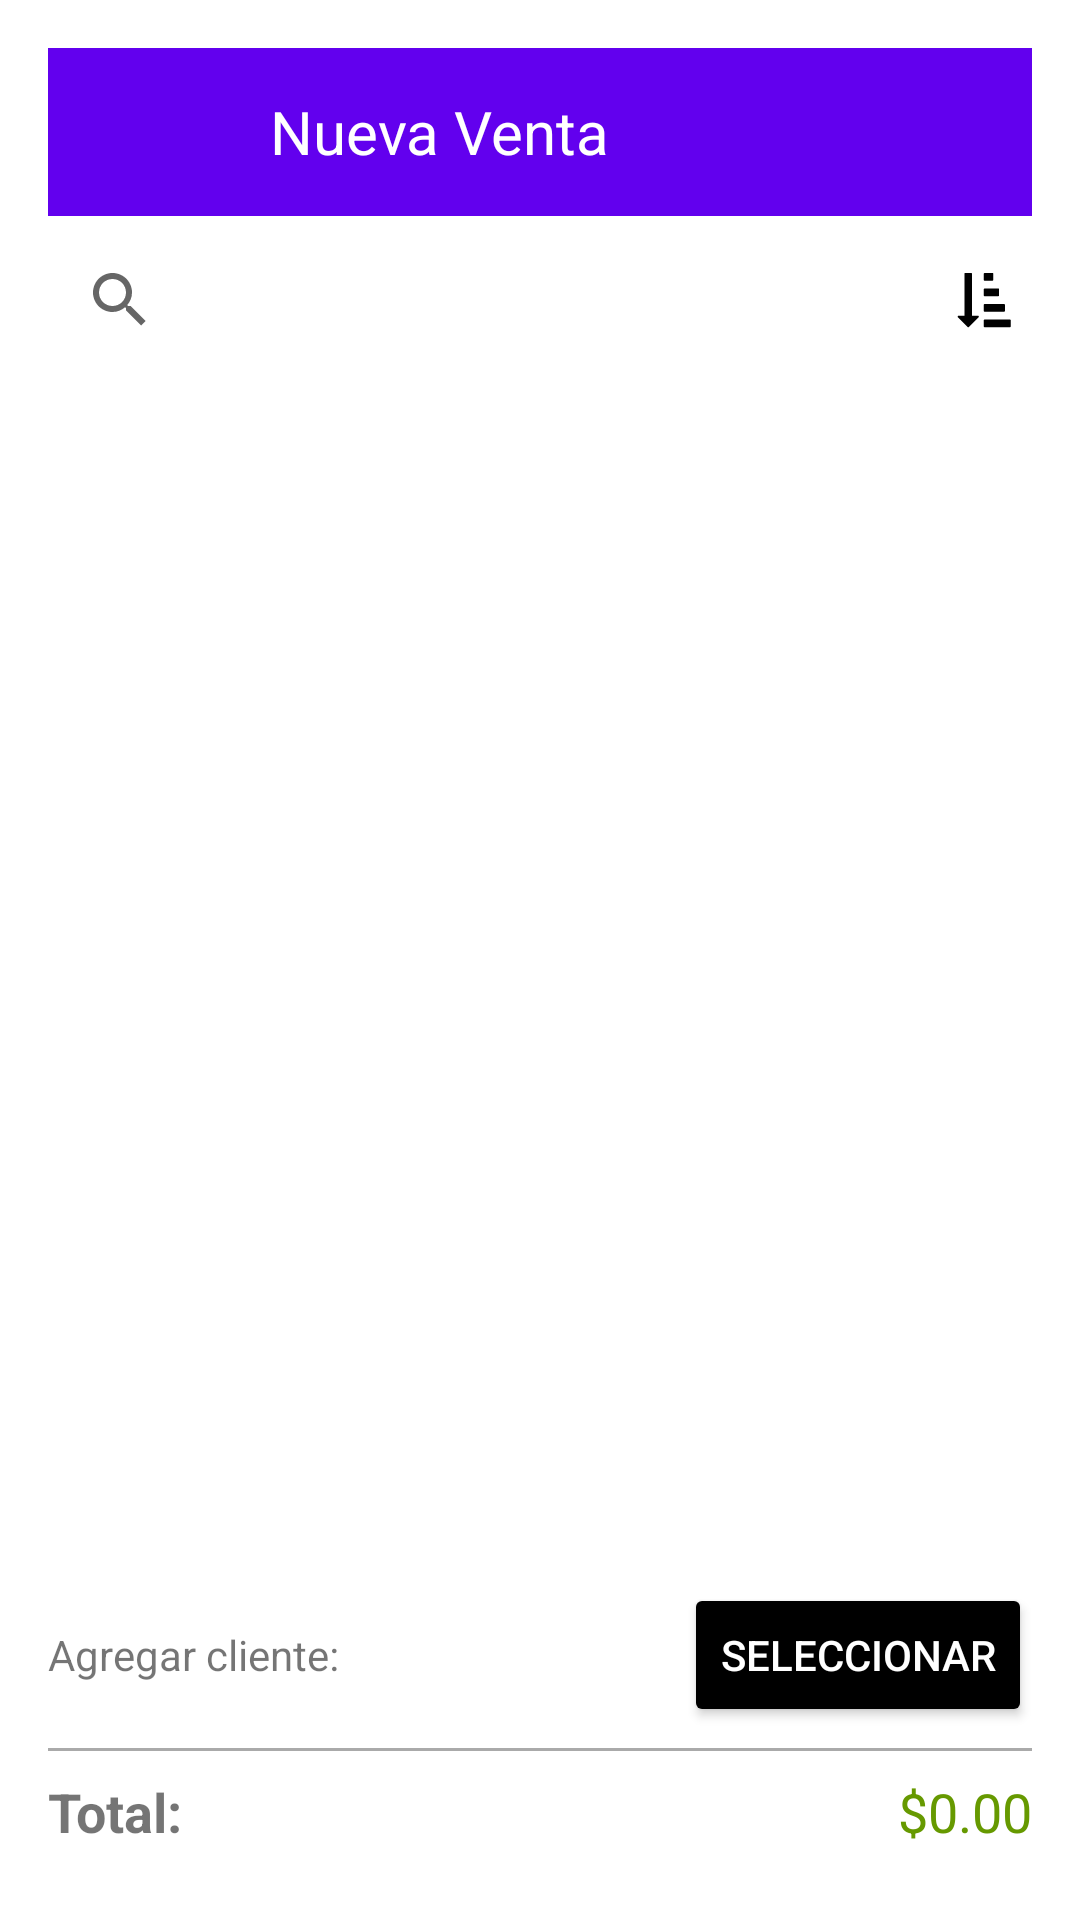

Locate icon controls on the screen. Image size 1080w x 1920h, boxes as rect(x1, y1, x2, y2).
orden: rect(957, 273, 1011, 328)
